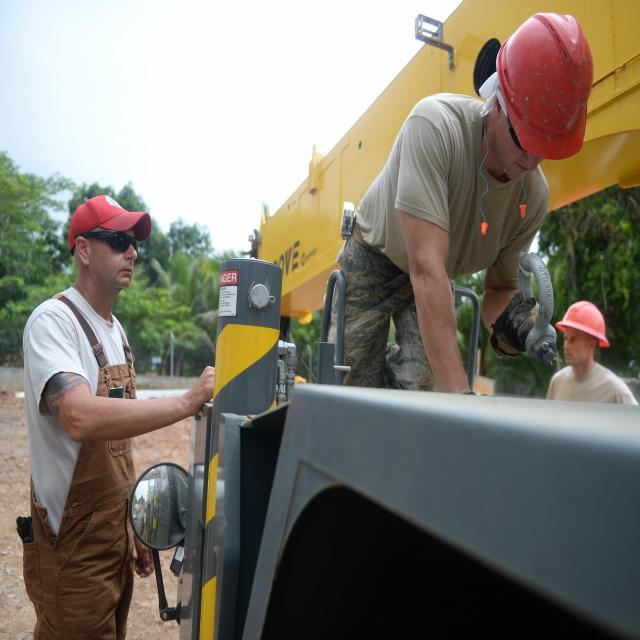sin_chaleco: (372, 85, 548, 293), (25, 288, 142, 533)
